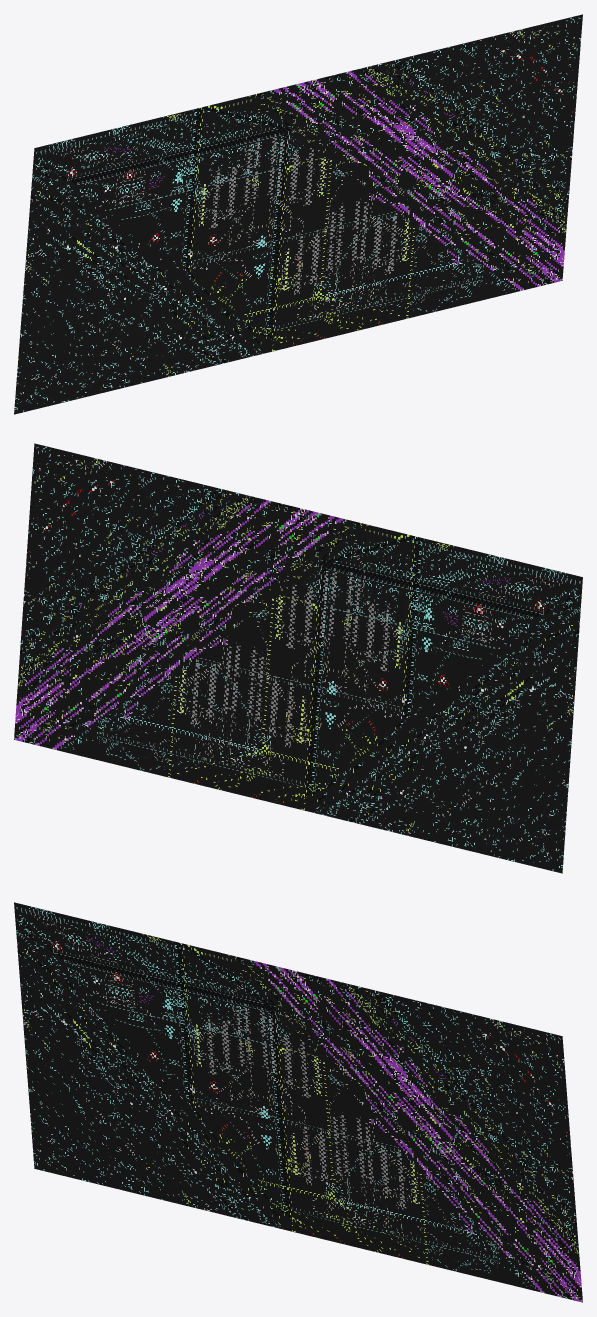
The picture shows the model from 3 angles, top to bottom: view 1: azimuth 30°, elevation 25°; view 2: azimuth 150°, elevation 25°; view 3: azimuth 330°, elevation 25°; orthographic projection.
Parts seen in each view (by area): view 1: Object232_f35_mfd_0; view 2: Object232_f35_mfd_0; view 3: Object232_f35_mfd_0.
Boxes of the visible parts, <box> form: Object232_f35_mfd_0: <box>14,14,582,414</box>; Object232_f35_mfd_0: <box>14,443,582,873</box>; Object232_f35_mfd_0: <box>14,902,582,1302</box>.
Size of the model in its own units: 46.84 by 22.97 by 3.02.
1 material, 1 textured.
